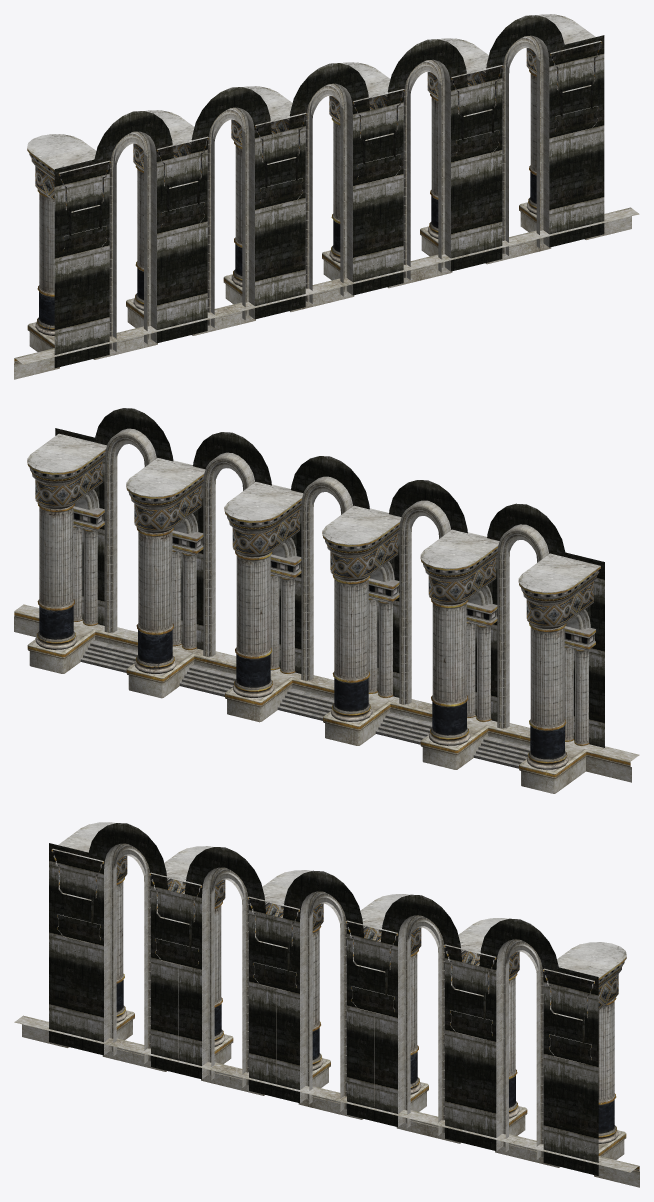
The model's file is KnightCastle_DockRoom_Pillar02.FBX.
3 renders of one model, top to bottom at view 1: azimuth 30°, elevation 25°; view 2: azimuth 150°, elevation 25°; view 3: azimuth 330°, elevation 25°, orthographic.
Visible parts, largest first — view 1: SM_KnightCastle_DockRoom_Pillar02; view 2: SM_KnightCastle_DockRoom_Pillar02; view 3: SM_KnightCastle_DockRoom_Pillar02.
Boxes of the visible parts, x1=… form: SM_KnightCastle_DockRoom_Pillar02: x1=14, y1=14, x2=639, y2=379; SM_KnightCastle_DockRoom_Pillar02: x1=14, y1=408, x2=639, y2=793; SM_KnightCastle_DockRoom_Pillar02: x1=14, y1=822, x2=639, y2=1187.
Size of what is drawn, in the model's own units: 3106 by 390 by 1181.
